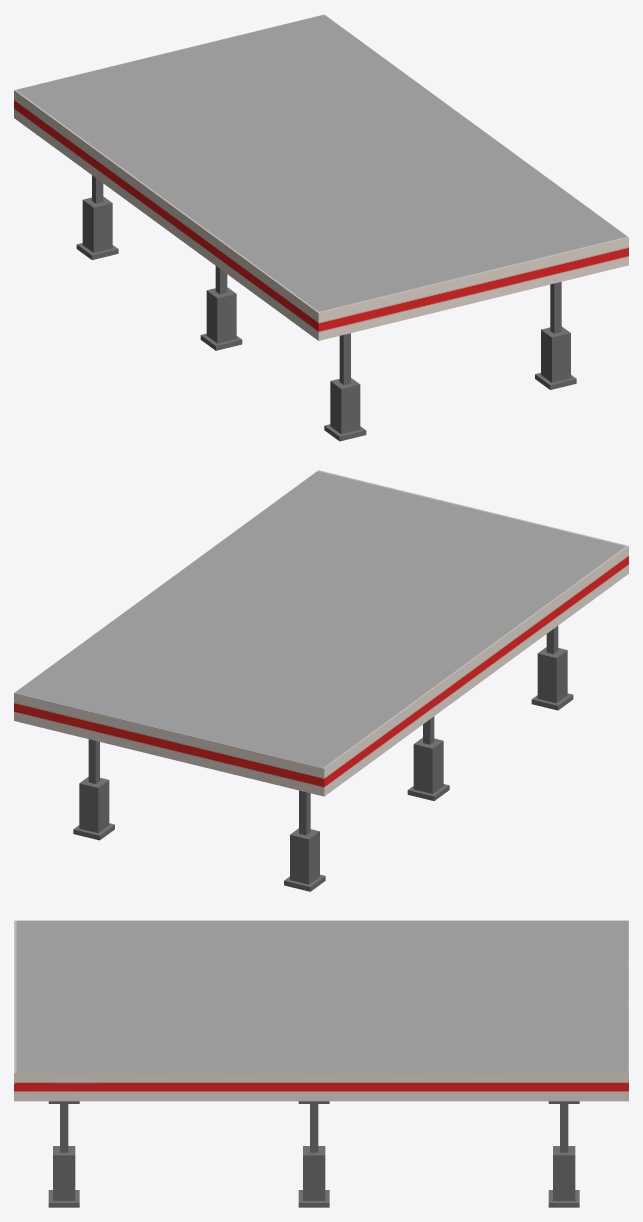
The model's file is GasStationPumps.glb.
3 views of the same model, one above another, from view 1: azimuth 30°, elevation 25°; view 2: azimuth 150°, elevation 25°; view 3: azimuth 270°, elevation 25° (orthographic).
Parts seen in each view (by area): view 1: GasStationPumps; view 2: GasStationPumps; view 3: GasStationPumps.
Boxes of the visible parts, x1,y1,x2,y2 form: GasStationPumps: (14,14,628,441); GasStationPumps: (14,470,628,891); GasStationPumps: (14,920,628,1207).
Size of what is drawn, in the model's own units: 8.23 by 3.81 by 14.
Materials: 1 (1 with a texture image).
